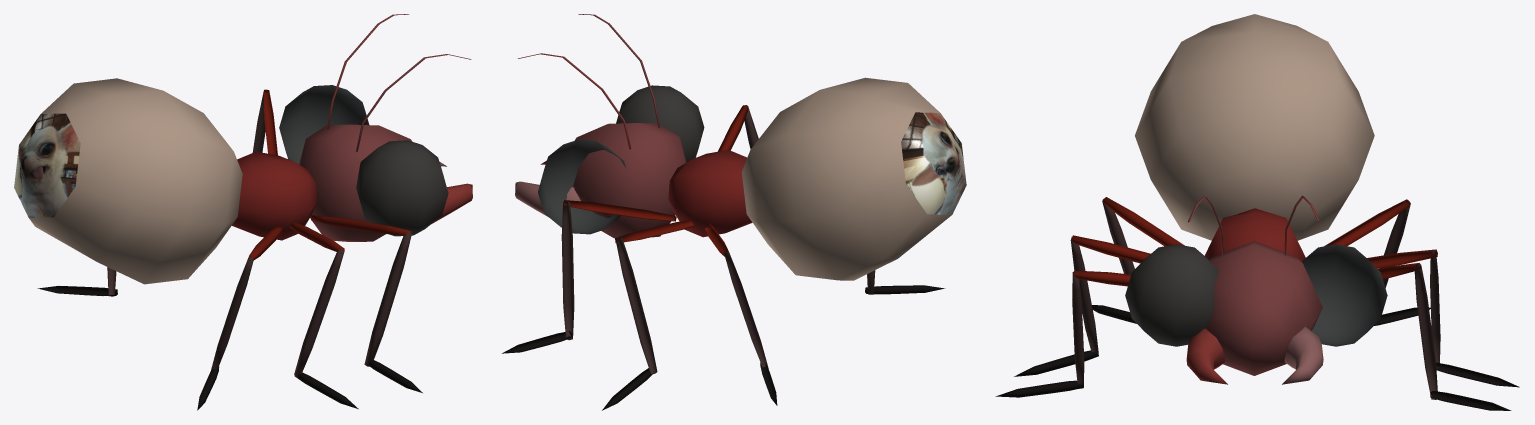
File: asset.glb
3 views of the same model, side by side, from view 1: azimuth 30°, elevation 25°; view 2: azimuth 150°, elevation 25°; view 3: azimuth 270°, elevation 25° (orthographic). The views are drawn at different scales.
Parts seen in each view (by area): view 1: body2, Sphere.002, head, body 1, Sphere.003, leg.001, leg.004, leg.007, leg, Sphere.001, leg.009, leg.003 (+5 smaller); view 2: body2, head, body 1, Sphere.003, Sphere.002, leg.013, leg.010, leg.016, leg.009, Sphere, leg.012, leg.011 (+3 smaller); view 3: body2, head, Sphere.002, Sphere.003, body 1, Sphere, Sphere.001, leg.010, leg.004, leg.001, leg.015, leg.006 (+10 smaller).
Part boxes in pixels (bbox=[...]): body2: bbox=[14, 78, 242, 284]; Sphere.002: bbox=[356, 140, 448, 236]; head: bbox=[299, 124, 412, 241]; body 1: bbox=[232, 151, 317, 240]; Sphere.003: bbox=[279, 85, 369, 164]; leg.001: bbox=[364, 233, 411, 366]; leg.004: bbox=[294, 250, 344, 377]; leg.007: bbox=[211, 257, 253, 370]; leg: bbox=[311, 215, 411, 235]; Sphere.001: bbox=[432, 183, 472, 223]; leg.009: bbox=[263, 89, 277, 155]; leg.003: bbox=[290, 222, 344, 253]; body2: bbox=[741, 77, 966, 280]; head: bbox=[573, 123, 686, 238]; body 1: bbox=[668, 150, 752, 237]; Sphere.003: bbox=[538, 139, 625, 234]; Sphere.002: bbox=[616, 85, 704, 161]; leg.013: bbox=[615, 237, 657, 373]; leg.010: bbox=[561, 201, 574, 340]; leg.016: bbox=[724, 251, 768, 368]; leg.009: bbox=[563, 200, 676, 221]; Sphere: bbox=[515, 181, 580, 216]; leg.012: bbox=[615, 220, 696, 243]; leg.011: bbox=[502, 331, 572, 353]; body2: bbox=[1135, 14, 1374, 240]; head: bbox=[1206, 241, 1322, 375]; Sphere.002: bbox=[1125, 244, 1218, 346]; Sphere.003: bbox=[1302, 244, 1387, 346]; body 1: bbox=[1204, 208, 1305, 261]; Sphere: bbox=[1282, 326, 1323, 384]; Sphere.001: bbox=[1186, 328, 1227, 384]; leg.010: bbox=[1414, 264, 1437, 399]; leg.004: bbox=[1070, 236, 1098, 352]; leg.001: bbox=[1072, 272, 1084, 388]; leg.015: bbox=[1324, 199, 1410, 246]; leg.006: bbox=[1102, 197, 1184, 246].
Size of the model in its own units: 3.1 by 1.8 by 3.06.
2 materials, 2 textured.
